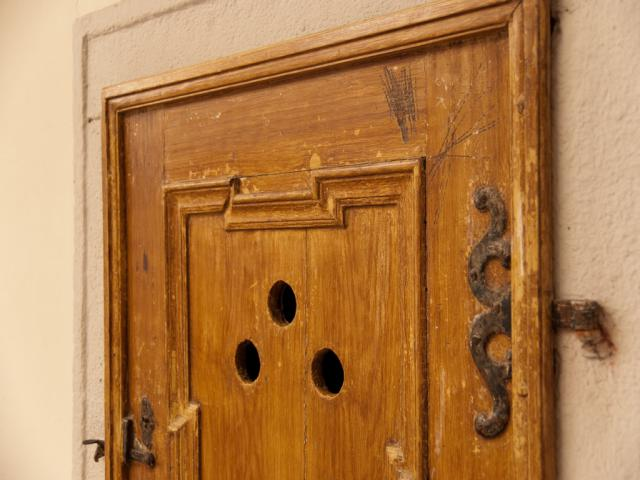Door-handle: (119, 414, 153, 471), (83, 437, 105, 466)
